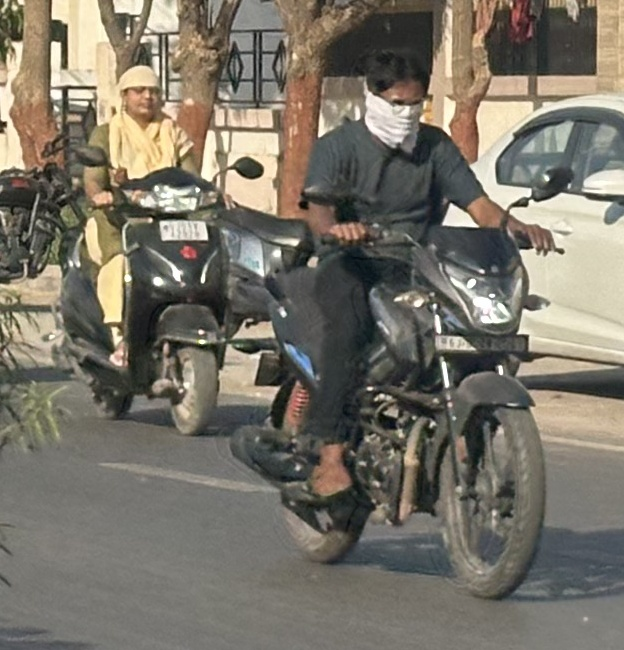BikeWithRider: (218, 50, 573, 602), (66, 60, 236, 434)
NoHelmet: (364, 51, 431, 153), (116, 59, 171, 120)
